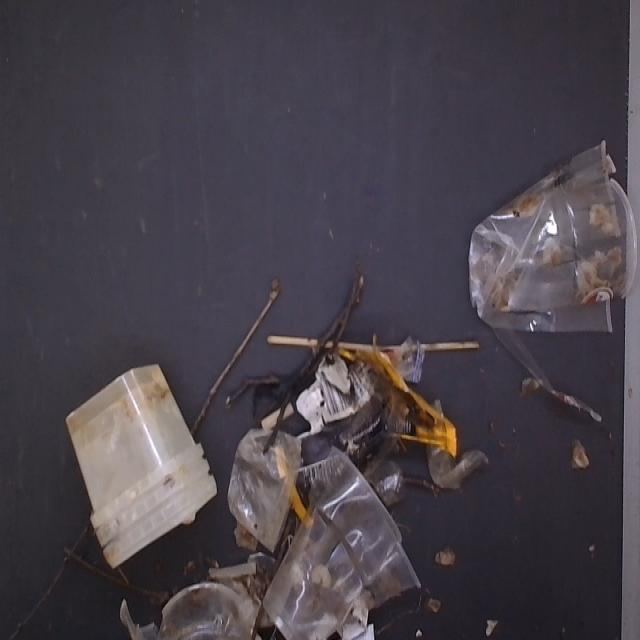food_packaging: (49, 381, 229, 569)
food_wrapping: (240, 318, 471, 476)
plastic_cups: (468, 155, 640, 360), (283, 468, 420, 640), (129, 573, 262, 640)
